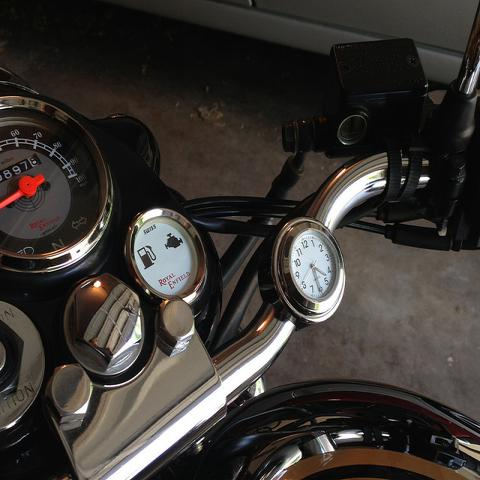motorcycle: (0, 9, 479, 479)
